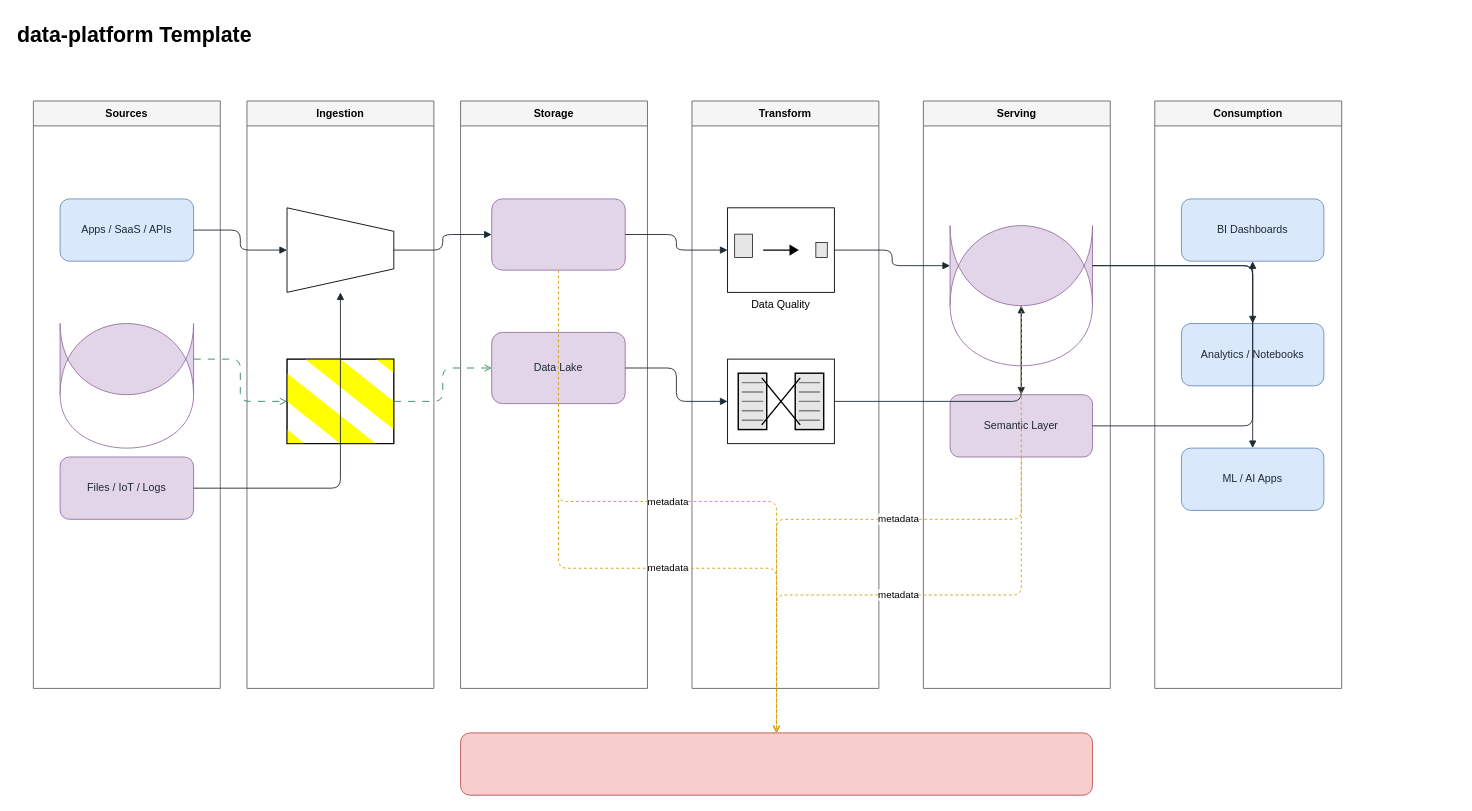
The diagram is 1472 pixels wide and 811 high, and some of its shapes have lost their labels. Each missing label, with the centre of its shape:
Batch / ELT: the point at 340,249
Catalog / Lineage / Governance / Privacy: the point at 776,763
CDC / Streaming: the point at 340,401
Operational DBs: the point at 126,359
Raw / Landing: the point at 558,234
Transform / Model: the point at 780,401
Warehouse / Lakehouse: the point at 1020,265
